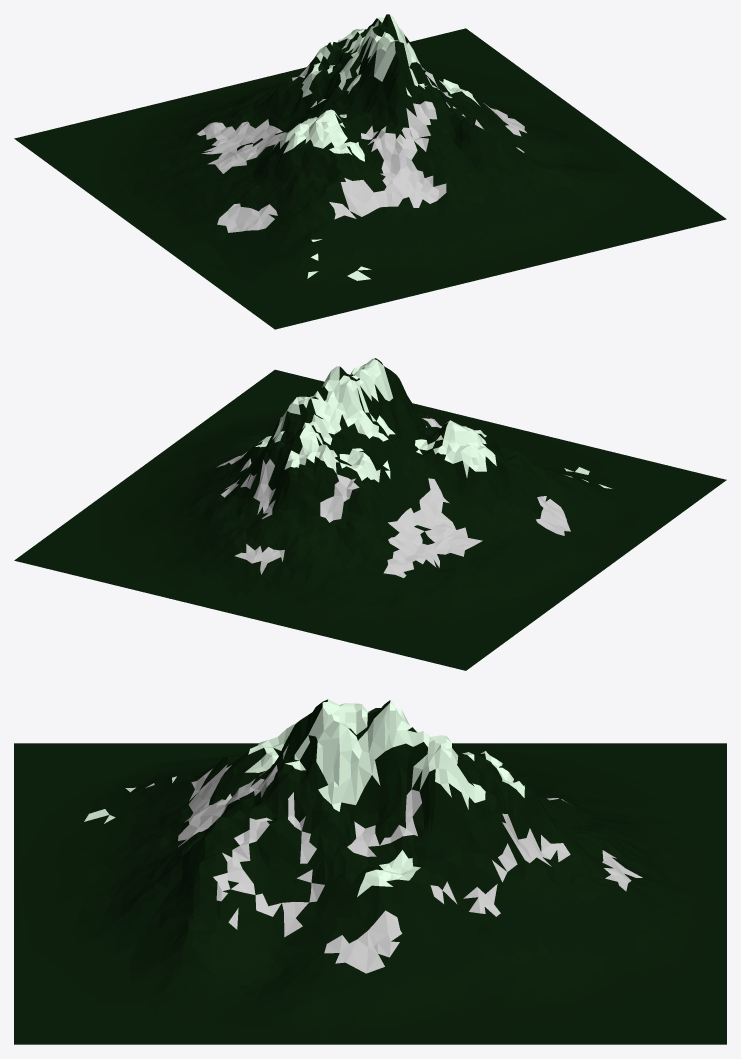
File: Mountain2.FBX
3 renders of one model, top to bottom at view 1: azimuth 30°, elevation 25°; view 2: azimuth 150°, elevation 25°; view 3: azimuth 270°, elevation 25°, orthographic. The views are drawn at different scales.
Parts seen in each view (by area): view 1: Landscape.007; view 2: Landscape.007; view 3: Landscape.007.
Boxes of the visible parts, x1,y1,x2,y2 form: Landscape.007: [14, 14, 726, 329]; Landscape.007: [14, 358, 726, 670]; Landscape.007: [14, 699, 726, 1044].
Size of the model in its own units: 78.74 by 25.56 by 78.74.
